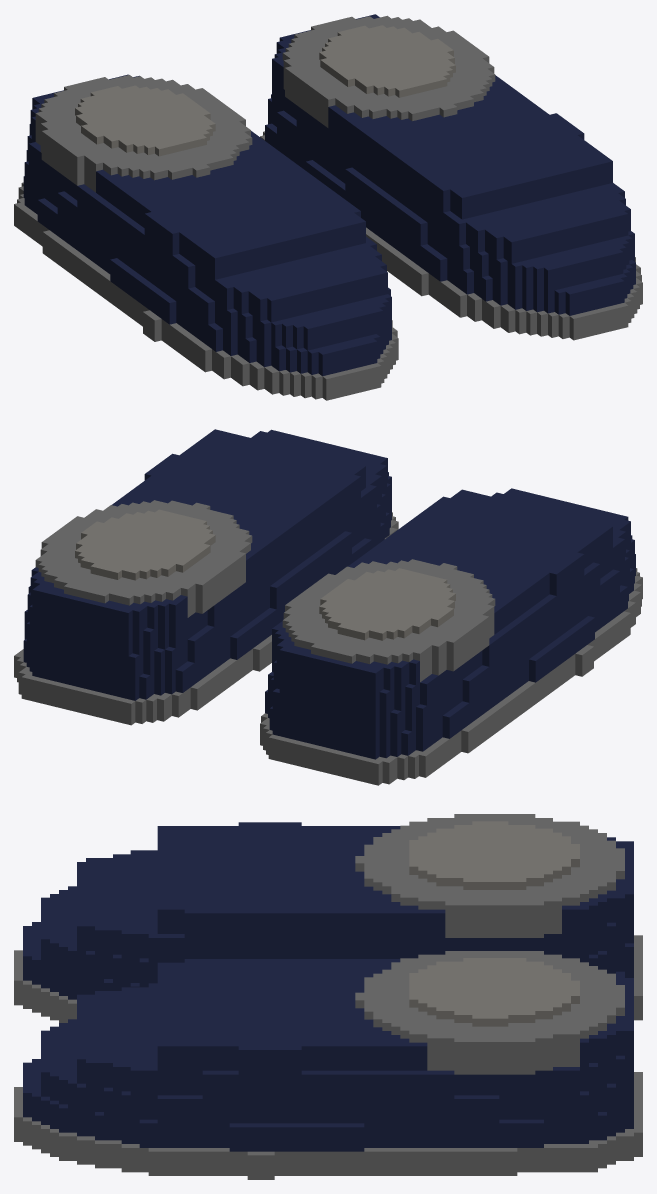
Rendered from slippers.glb.
The picture shows the model from 3 angles, top to bottom: view 1: azimuth 30°, elevation 25°; view 2: azimuth 150°, elevation 25°; view 3: azimuth 270°, elevation 25°; orthographic projection. The views are drawn at different scales.
Parts seen in each view (by area): view 1: slippers:compound; view 2: slippers:compound; view 3: slippers:compound.
Boxes of the visible parts, box(x1,y1,x2,y2) form: slippers:compound: box(14, 14, 642, 400); slippers:compound: box(14, 429, 642, 785); slippers:compound: box(14, 814, 642, 1179).
Bounding box in the file's own units: 0.256 × 0.068 × 0.28.
